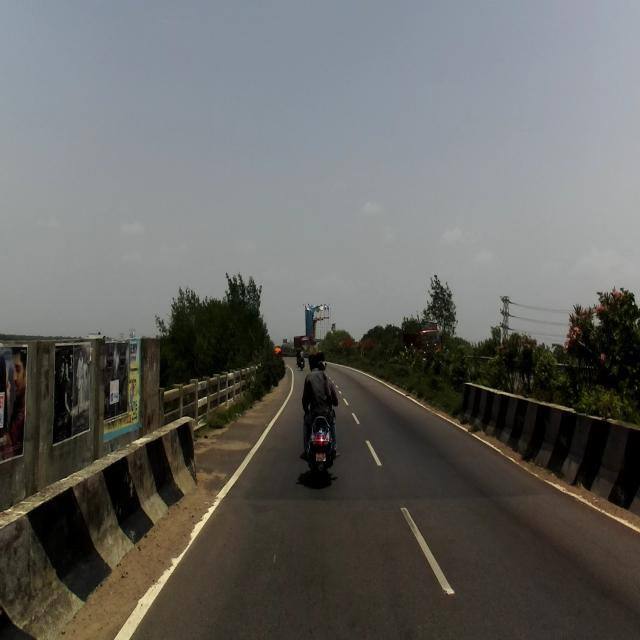scooter: (304, 398, 339, 482)
